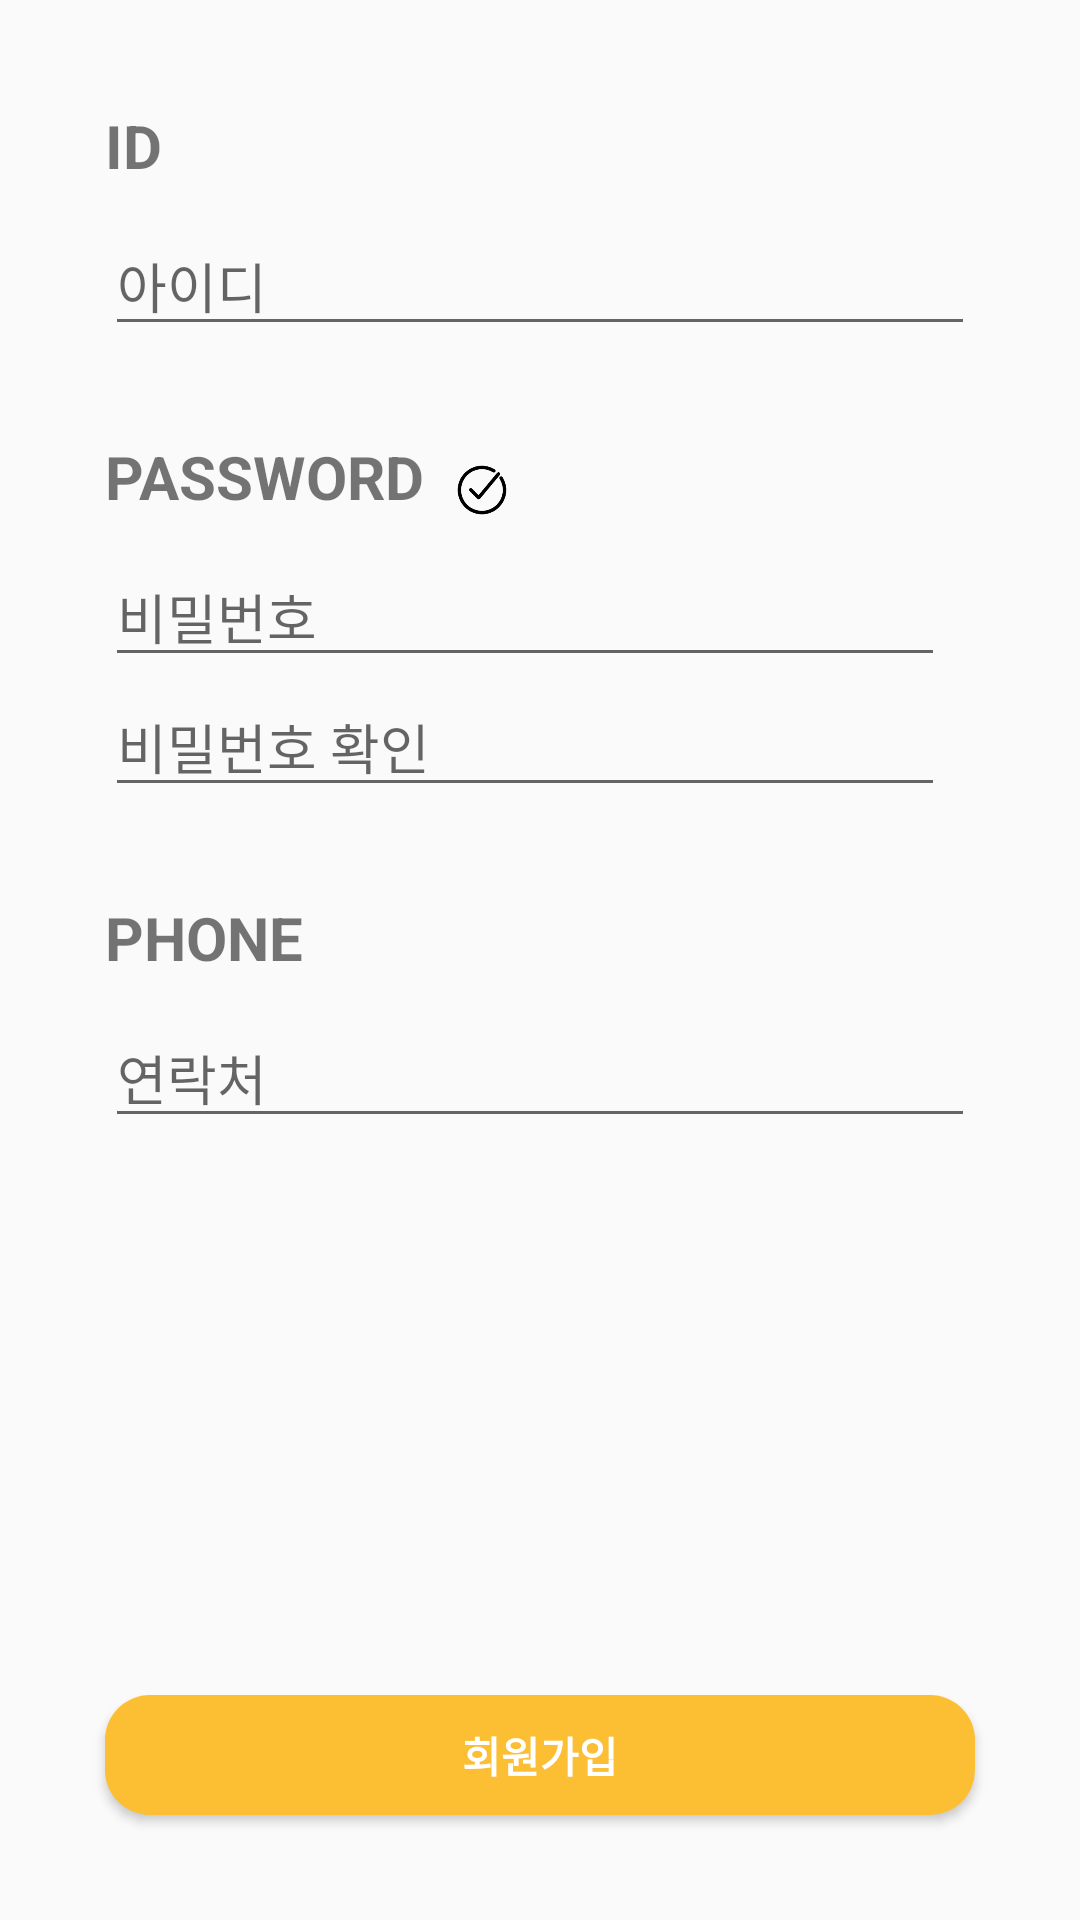

Where icons sit on this 1080w x 1920h app screen, as [left=x1, top=y1, right=x2, bottom=y2]:
check: [left=457, top=465, right=507, bottom=515]
